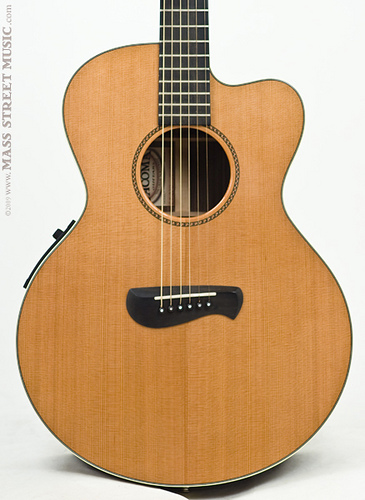guitar: (15, 1, 352, 490)
